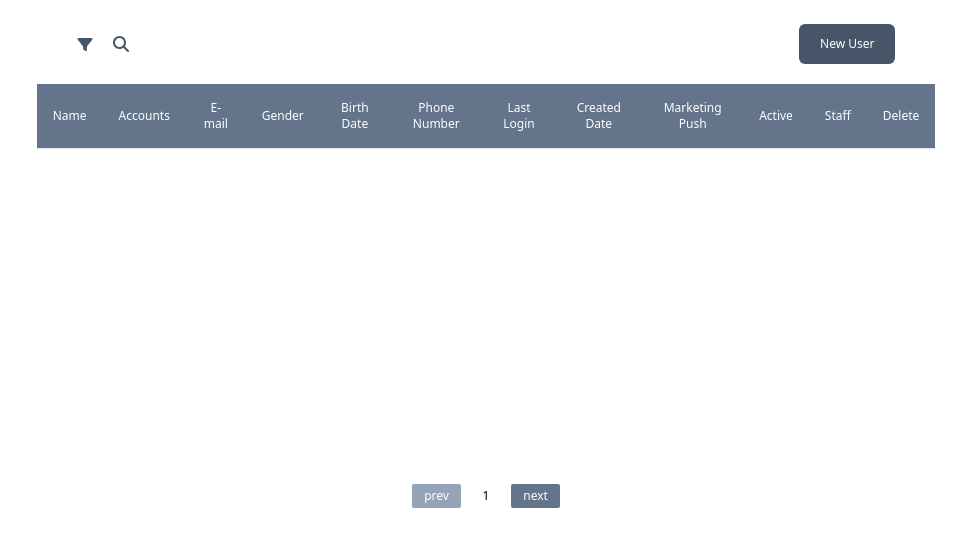
Test: UserList Page › should open create user modal when add button is clicked
Click the button "New User": point(847, 44) [799,24,895,64]
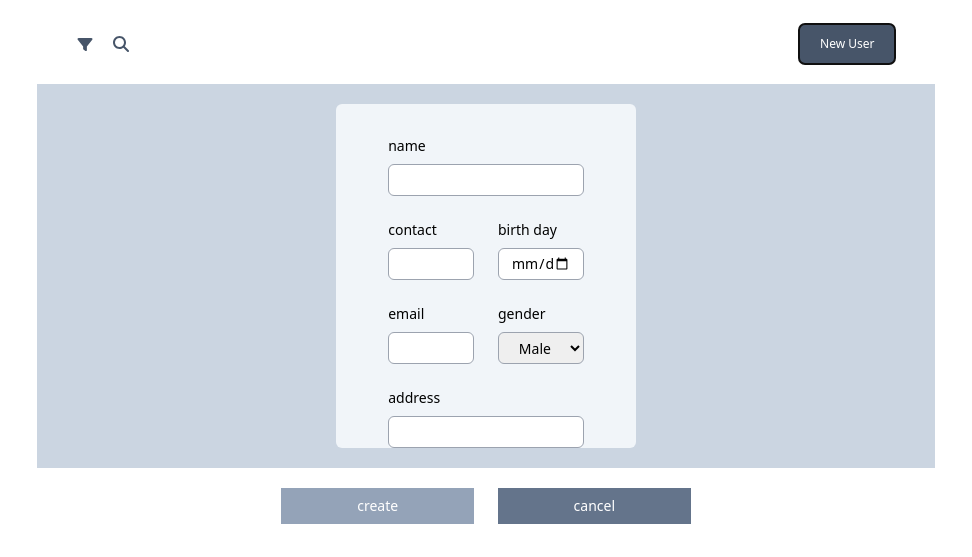
Expected: the element with test id "create-user-modal" is shown
